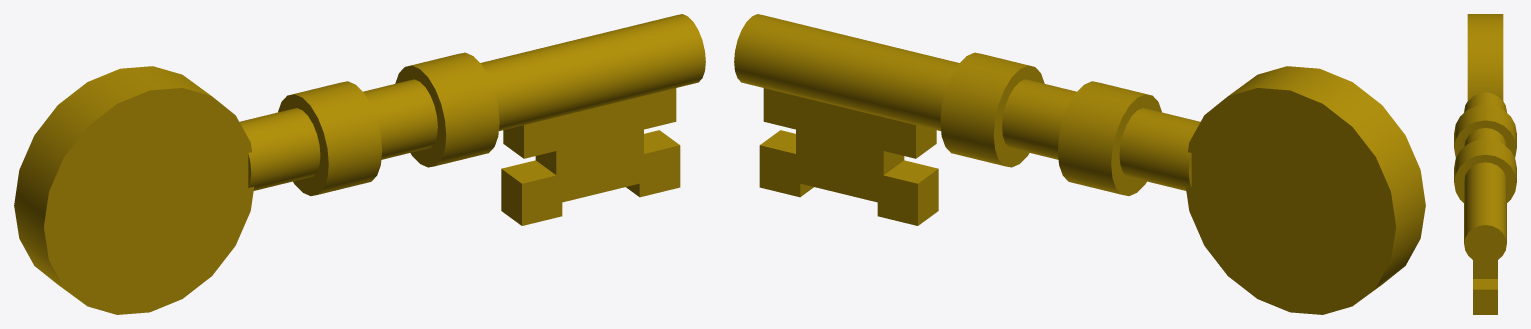
The model's file is Key Complete.fbx.
3 renders of one model, left to right at view 1: azimuth 30°, elevation 25°; view 2: azimuth 150°, elevation 25°; view 3: azimuth 270°, elevation 25°, orthographic. The views are drawn at different scales.
Visible parts, largest first — view 1: pCylinder1, pCylinder2, pCube1, pCylinder4, pCylinder3, pCube4, pCube6, pCube2, pCube3; view 2: pCylinder1, pCylinder2, pCube1, pCylinder4, pCylinder3, pCube4, pCube6, pCube2, pCube3; view 3: pCylinder2, pCylinder1, pCylinder4, pCylinder3, pCube6, pCube3, pCube1.
Part boxes in pixels (box(x1,y1,x2,y2)): pCylinder1: box(14, 66, 254, 314); pCylinder2: box(239, 14, 705, 190); pCube1: box(535, 96, 643, 203); pCylinder4: box(395, 52, 499, 167); pCylinder3: box(278, 81, 382, 195); pCube4: box(501, 160, 562, 225); pCube6: box(626, 130, 680, 197); pCube2: box(503, 117, 556, 158); pCube3: box(644, 88, 676, 129); pCylinder1: box(1185, 66, 1425, 314); pCylinder2: box(734, 14, 1200, 190); pCube1: box(796, 96, 904, 203); pCylinder4: box(940, 52, 1044, 167); pCylinder3: box(1057, 81, 1161, 195); pCube4: box(877, 160, 938, 225); pCube6: box(759, 130, 813, 197); pCube2: box(883, 117, 936, 158); pCube3: box(763, 88, 795, 129); pCylinder2: box(1464, 92, 1506, 263); pCylinder1: box(1467, 14, 1503, 101); pCylinder4: box(1454, 139, 1516, 202); pCylinder3: box(1454, 104, 1516, 157); pCube6: box(1473, 279, 1497, 314); pCube3: box(1473, 260, 1497, 273); pCube1: box(1473, 274, 1497, 278).
Bounding box in the file's own units: 6.21 × 2.08 × 0.8543.
